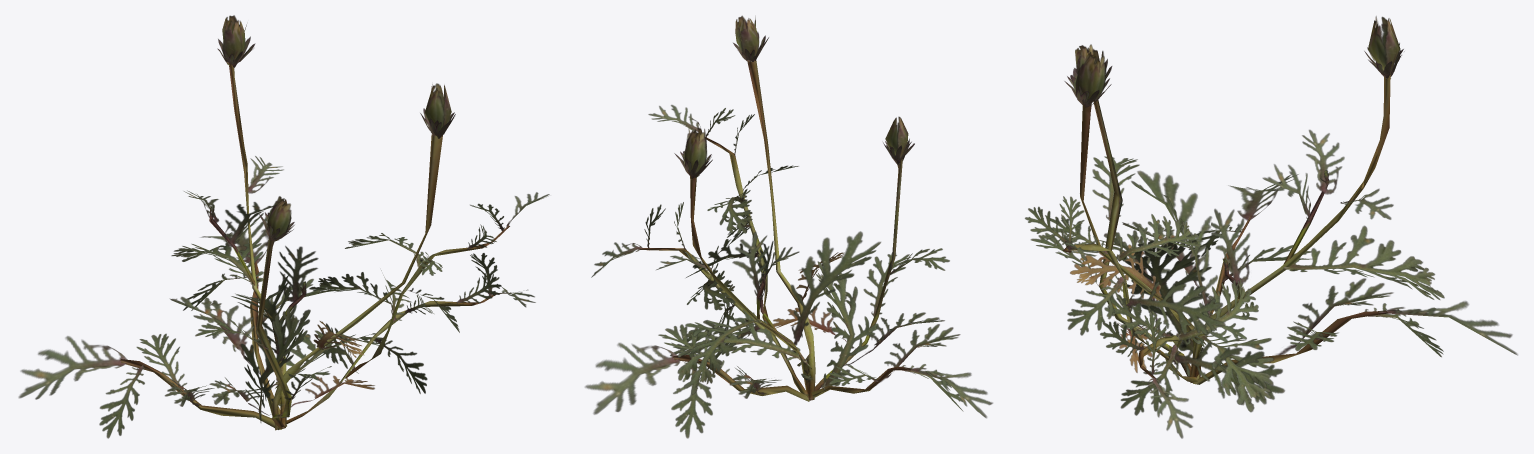
The model's file is nama_ursinia_d.glb.
3 renders of one model, left to right at view 1: azimuth 30°, elevation 25°; view 2: azimuth 150°, elevation 25°; view 3: azimuth 270°, elevation 25°, orthographic. The views are drawn at different scales.
Visible parts, largest first — view 1: nama_ursinia_d; view 2: nama_ursinia_d; view 3: nama_ursinia_d.
Boxes of the visible parts, <box> form: nama_ursinia_d: <box>18,15,549,438</box>; nama_ursinia_d: <box>585,15,992,438</box>; nama_ursinia_d: <box>1025,16,1517,438</box>.
Bounding box in the file's own units: 0.4841 × 0.3457 × 0.3918.
Materials: 1 (1 with a texture image).
